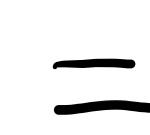eqv: (53, 59, 150, 115)
